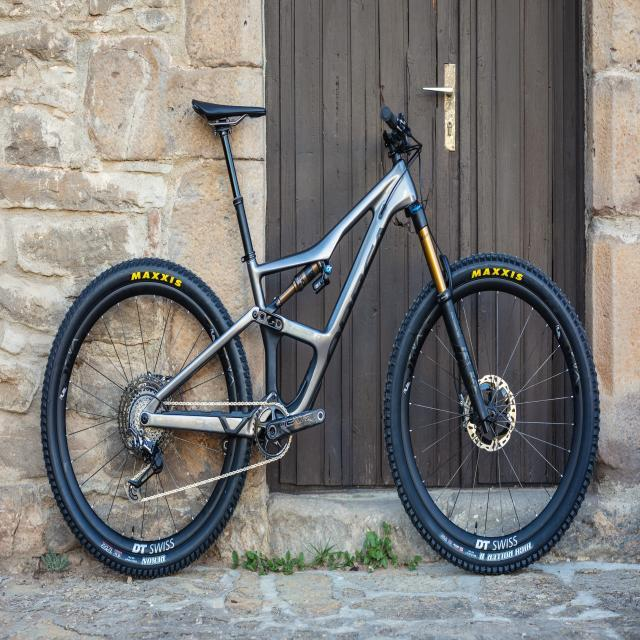bike: (40, 98, 602, 578)
